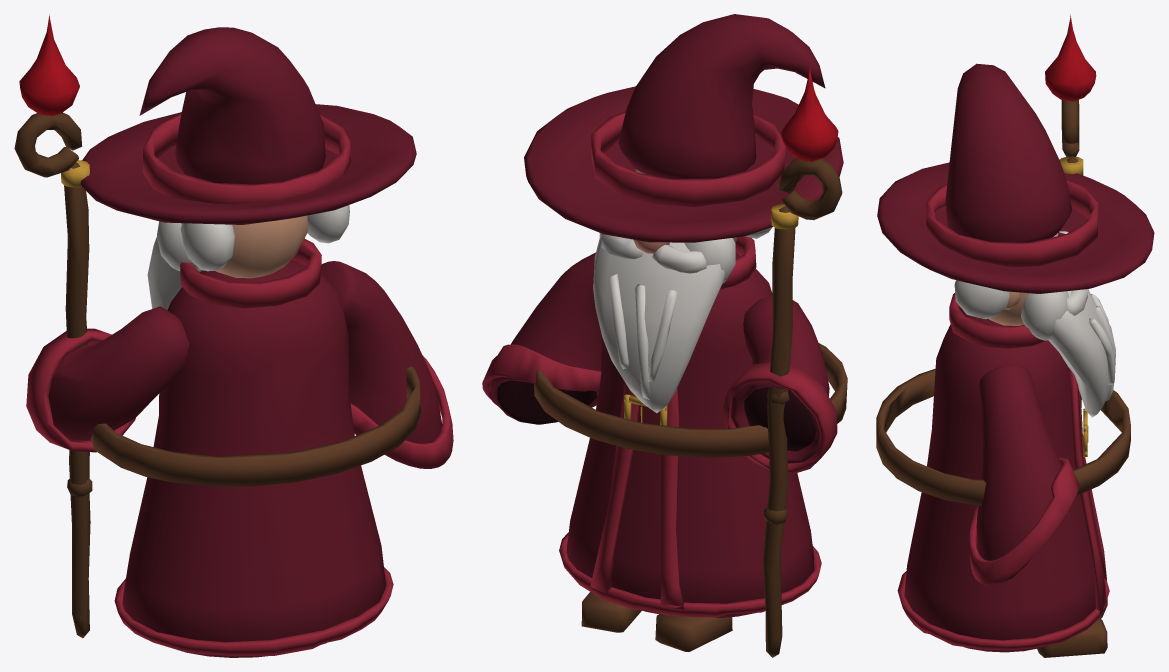
The model's file is bloodmage.glb.
3 views of the same model, side by side, from view 1: azimuth 30°, elevation 25°; view 2: azimuth 150°, elevation 25°; view 3: azimuth 270°, elevation 25° (orthographic). The views are drawn at different scales.
Parts seen in each view (by area): view 1: Body.001, Arm-1; view 2: Body.001, Arm-1; view 3: Body.001, Arm-1.
Boxes of the visible parts, <box> form: Body.001: <box>14,14,421,657</box>; Arm-1: <box>321,261,453,468</box>; Body.001: <box>524,14,847,657</box>; Arm-1: <box>482,252,601,424</box>; Body.001: <box>876,14,1154,657</box>; Arm-1: <box>969,365,1079,585</box>.
Bounding box in the file's own units: 0.7447 × 1.13 × 0.5182.
